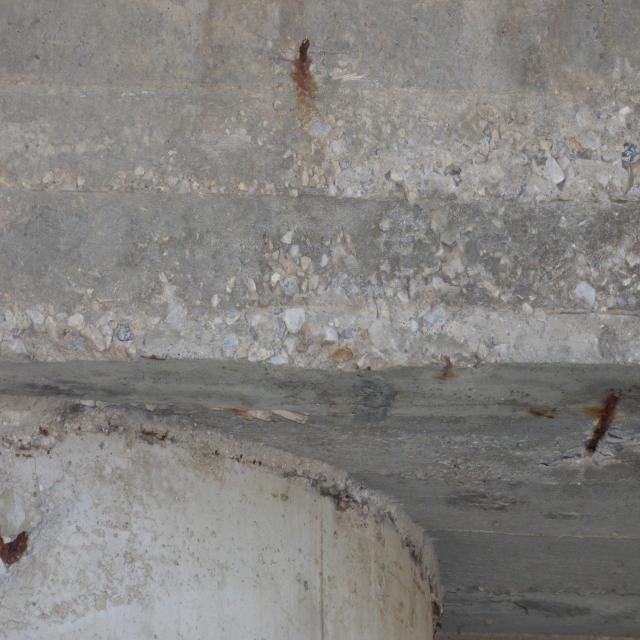corrosion: (276, 17, 356, 128), (565, 372, 638, 473), (0, 510, 71, 587)
